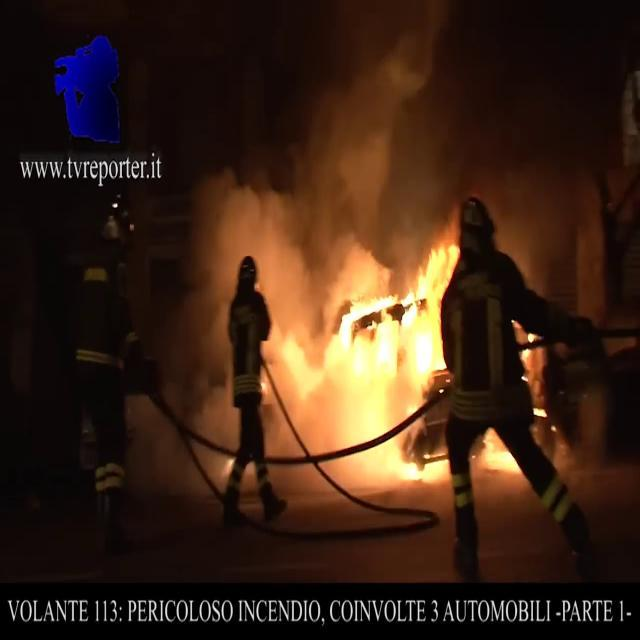Fire: (273, 242, 461, 487), (473, 424, 526, 482)
Smoke: (186, 0, 628, 264)
